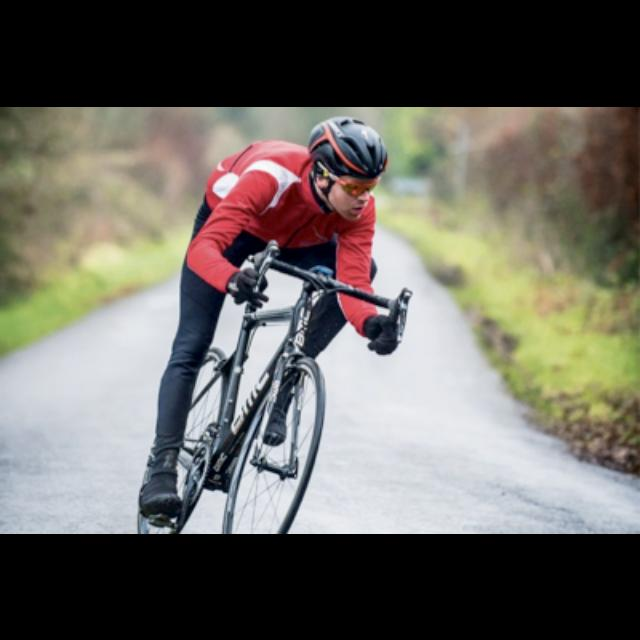With Helmet: (306, 109, 390, 227)
